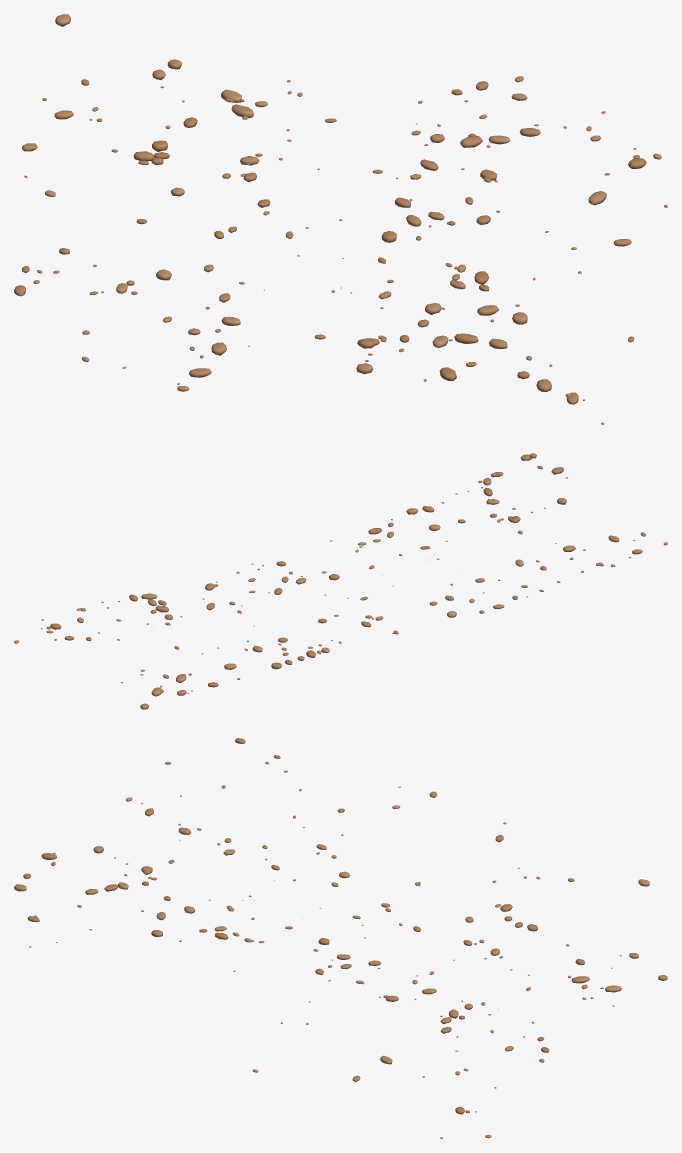
Rendered from terrain-097.glb.
3 views of the same model, one above another, from view 1: azimuth 30°, elevation 25°; view 2: azimuth 150°, elevation 25°; view 3: azimuth 270°, elevation 25° (orthographic). The views are drawn at different scales.
Visible parts, largest first — view 1: terrain-097; view 2: terrain-097; view 3: terrain-097.
Boxes of the visible parts, <box> form: terrain-097: <box>14,14,667,424</box>; terrain-097: <box>14,453,667,709</box>; terrain-097: <box>14,738,667,1138</box>.
Bounding box in the file's own units: 64.61 × 16.85 × 67.76.
